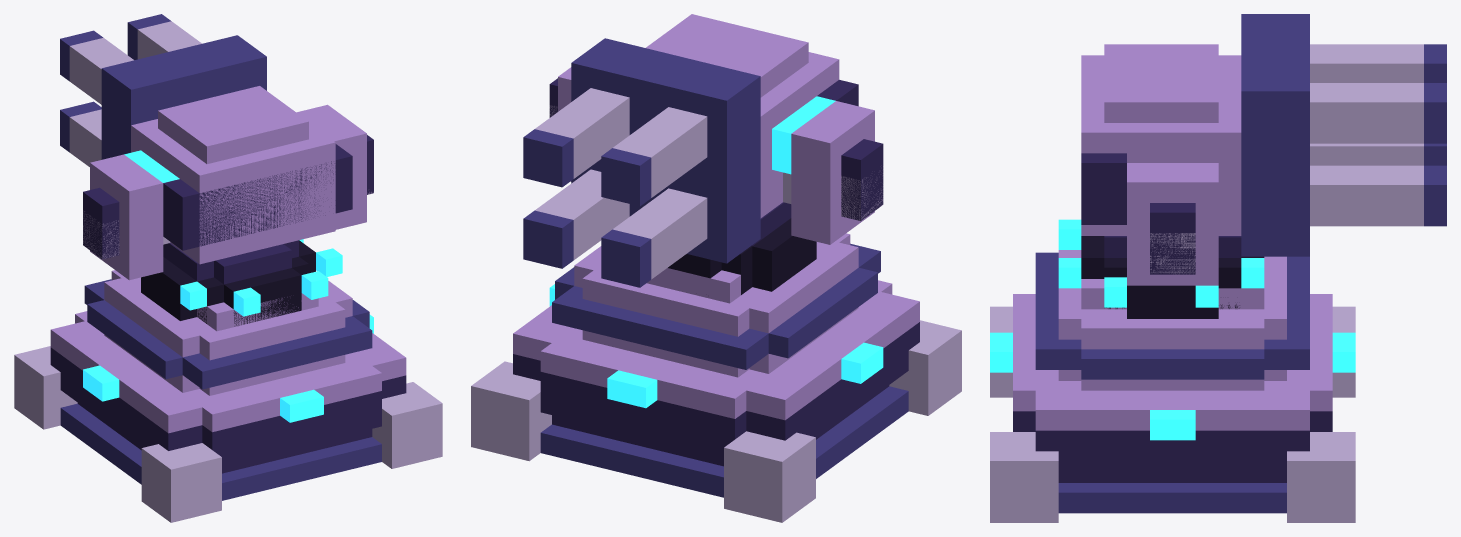
Rendered from point-defense.sm.glb.
The picture shows the model from 3 angles, left to right: view 1: azimuth 30°, elevation 25°; view 2: azimuth 150°, elevation 25°; view 3: azimuth 270°, elevation 25°; orthographic projection. The views are drawn at different scales.
Parts seen in each view (by area): view 1: point-defense.sm; view 2: point-defense.sm; view 3: point-defense.sm.
Part boxes in pixels (bbox=[...]): point-defense.sm: bbox=[14, 14, 442, 522]; point-defense.sm: bbox=[471, 14, 961, 522]; point-defense.sm: bbox=[990, 14, 1446, 522].
Size of the model in its own units: 1 by 1.19 by 1.25.
